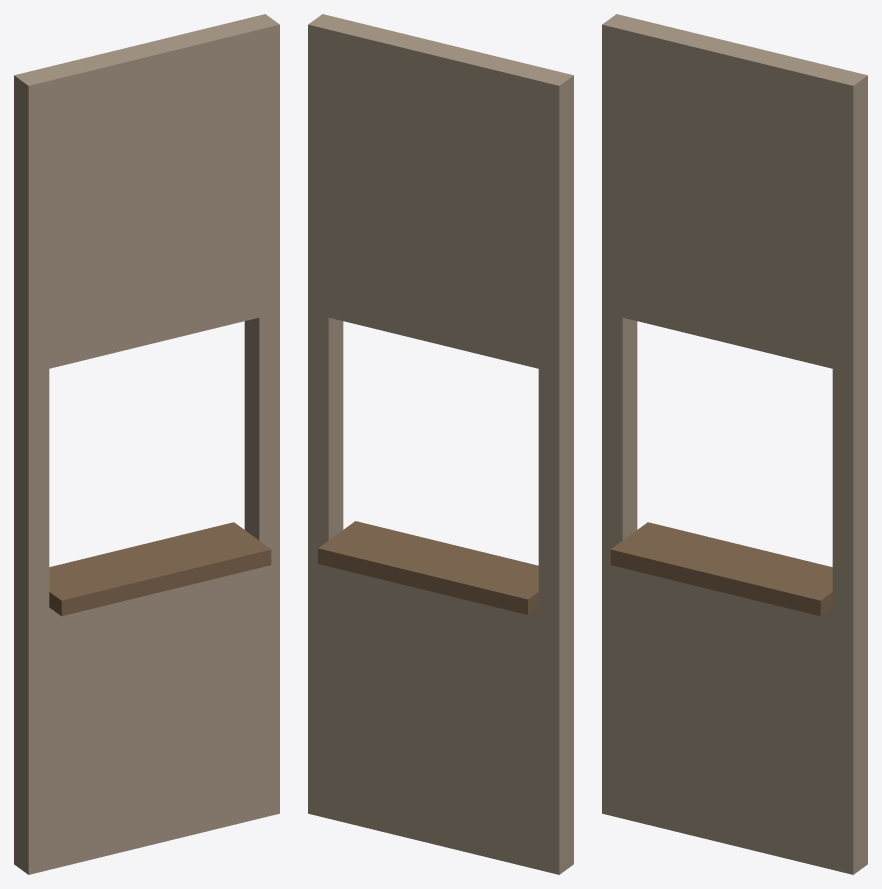
The model's file is Mesh_Wall_B2.fbx.
The picture shows the model from 3 angles, left to right: view 1: azimuth 30°, elevation 25°; view 2: azimuth 150°, elevation 25°; view 3: azimuth 330°, elevation 25°; orthographic projection.
Visible parts, largest first — view 1: Mesh_Wall_B2; view 2: Mesh_Wall_B2; view 3: Mesh_Wall_B2.
Part boxes in pixels (<box>): Mesh_Wall_B2: <box>14,14,279,874</box>; Mesh_Wall_B2: <box>308,14,573,874</box>; Mesh_Wall_B2: <box>602,14,867,874</box>.
Bounding box in the file's own units: 1 × 3 × 0.2574.
